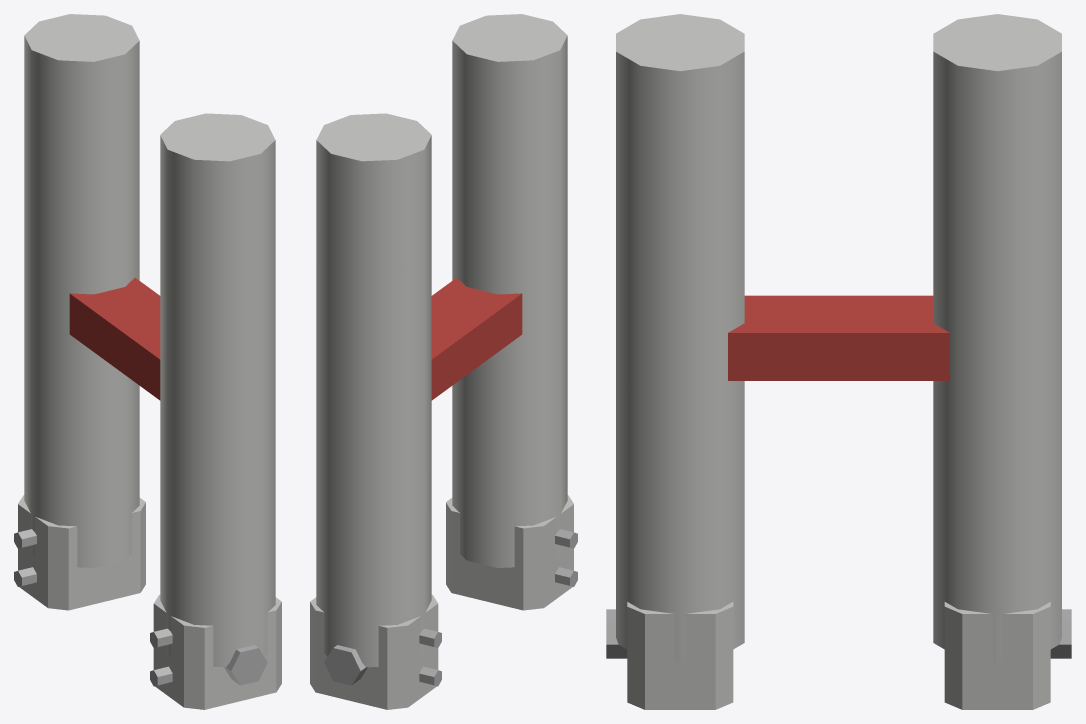
The model's file is tourer_fork_black_lower_lod1.glb.
3 renders of one model, left to right at view 1: azimuth 30°, elevation 25°; view 2: azimuth 150°, elevation 25°; view 3: azimuth 270°, elevation 25°, orthographic. The views are drawn at different scales.
Parts seen in each view (by area): view 1: tourer_fork_black_lower_lod1; view 2: tourer_fork_black_lower_lod1; view 3: tourer_fork_black_lower_lod1.
Boxes of the visible parts, <box> form: tourer_fork_black_lower_lod1: <box>14,14,281,709</box>; tourer_fork_black_lower_lod1: <box>310,14,577,709</box>; tourer_fork_black_lower_lod1: <box>606,14,1071,709</box>.
Bounding box in the file's own units: 0.0874 × 0.4 × 0.264.
